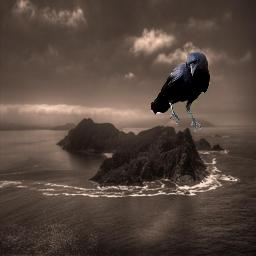Crow: (151, 52, 210, 133)
